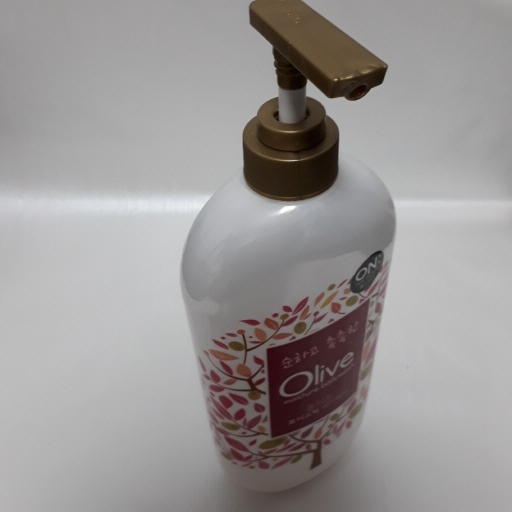Plastic_3: (171, 2, 400, 501)
